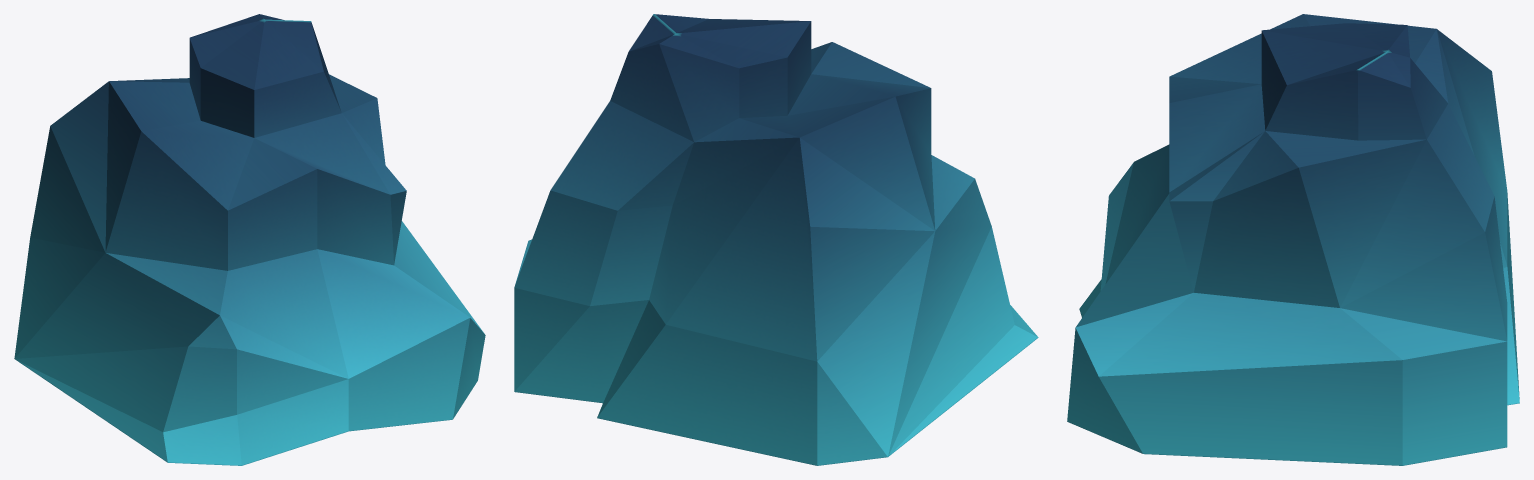
The model's file is MOD_PROPRock2.fbx.
3 renders of one model, left to right at view 1: azimuth 30°, elevation 25°; view 2: azimuth 150°, elevation 25°; view 3: azimuth 270°, elevation 25°, orthographic. The views are drawn at different scales.
Parts seen in each view (by area): view 1: MOD_PropRock2; view 2: MOD_PropRock2; view 3: MOD_PropRock2.
Part boxes in pixels (x1,y1,x2,y2): MOD_PropRock2: (14, 14, 485, 465); MOD_PropRock2: (514, 14, 1038, 465); MOD_PropRock2: (1067, 14, 1519, 465).
Size of the model in its own units: 1.35 by 1.14 by 1.36.
